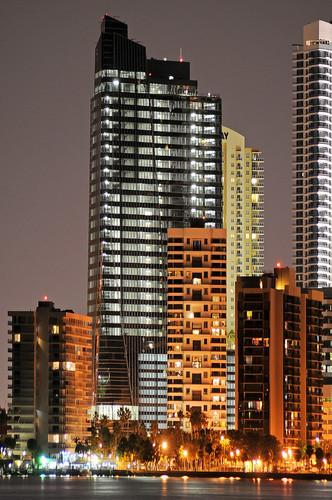building: (84, 14, 268, 464), (233, 264, 331, 476), (5, 299, 98, 474)
